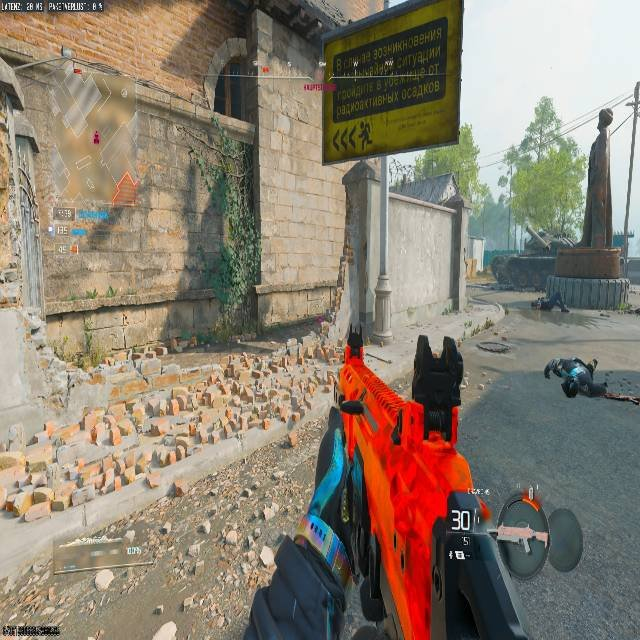head: (561, 377, 578, 397), (543, 362, 556, 379)
